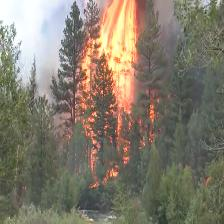fire: (92, 0, 137, 108)
